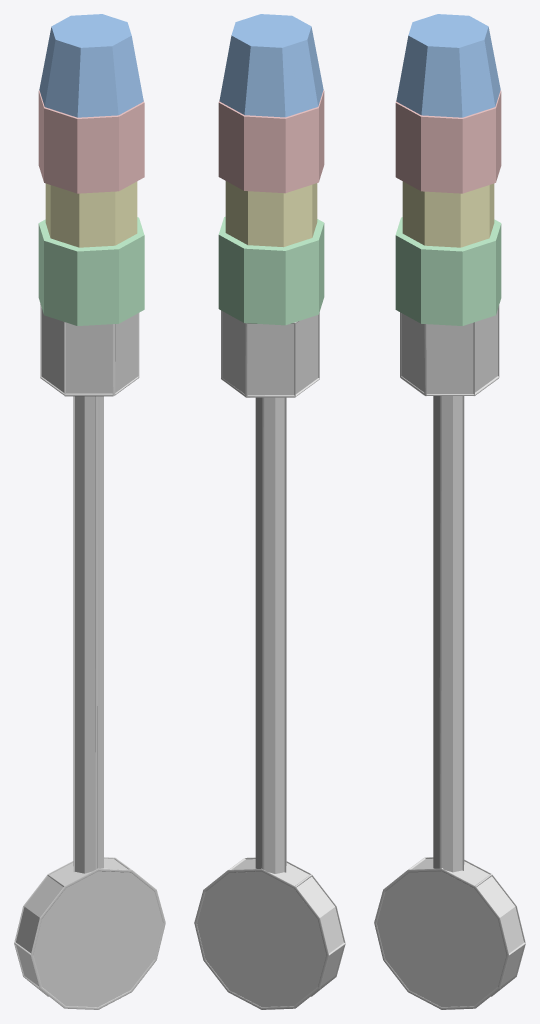
The model's file is deng.fbx.
The picture shows the model from 3 angles, left to right: view 1: azimuth 30°, elevation 25°; view 2: azimuth 150°, elevation 25°; view 3: azimuth 330°, elevation 25°; orthographic projection.
Parts seen in each view (by area): view 1: 柱体_002, 蓝色, 绿色, 红色, 黄色; view 2: 柱体_002, 蓝色, 绿色, 红色, 黄色; view 3: 柱体_002, 蓝色, 绿色, 红色, 黄色.
Part boxes in pixels (left/top/right/bottom): 柱体_002: left=14, top=304, right=165, bottom=1009; 蓝色: left=39, top=14, right=143, bottom=117; 绿色: left=38, top=217, right=144, bottom=325; 红色: left=38, top=90, right=144, bottom=193; 黄色: left=45, top=181, right=137, bottom=247; 柱体_002: left=194, top=310, right=345, bottom=1009; 蓝色: left=219, top=14, right=323, bottom=117; 绿色: left=218, top=216, right=324, bottom=325; 红色: left=218, top=90, right=324, bottom=193; 黄色: left=225, top=181, right=317, bottom=247; 柱体_002: left=374, top=305, right=525, bottom=1009; 蓝色: left=396, top=14, right=500, bottom=117; 绿色: left=395, top=217, right=501, bottom=325; 红色: left=395, top=90, right=501, bottom=193; 黄色: left=402, top=181, right=494, bottom=247.
Bounding box in the file's own units: 14.93 × 103 × 10.49.
